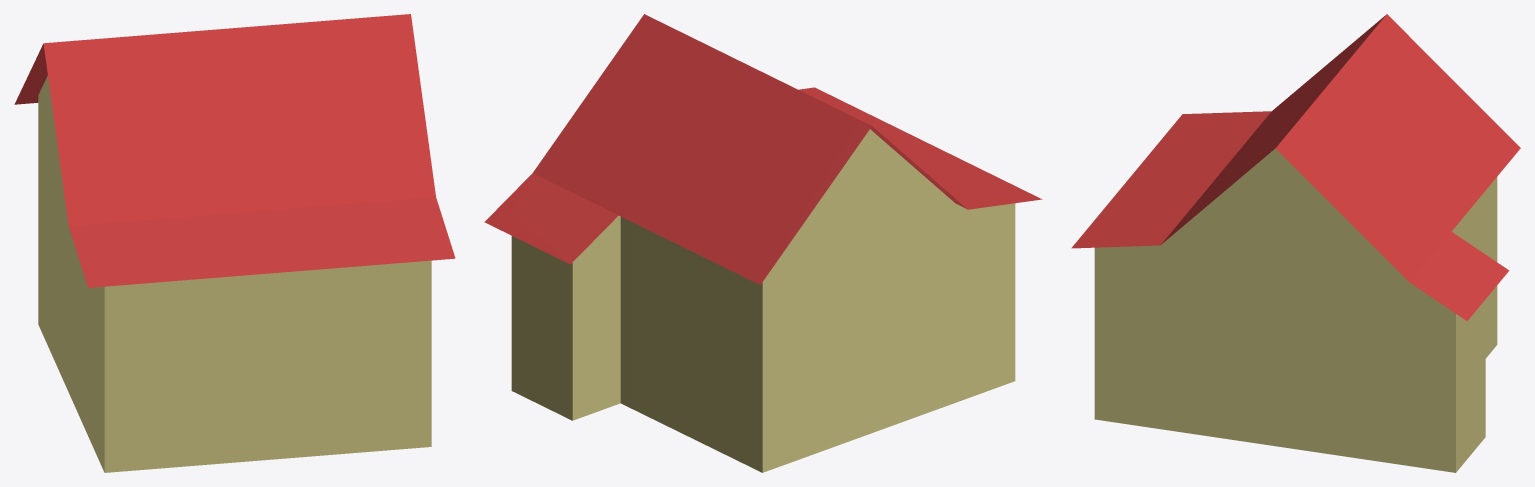
The picture shows the model from 3 angles, left to right: view 1: azimuth 30°, elevation 25°; view 2: azimuth 150°, elevation 25°; view 3: azimuth 270°, elevation 25°; orthographic projection. The views are drawn at different scales.
Bounding box in the file's own units: 18.43 × 18.15 × 13.64.
